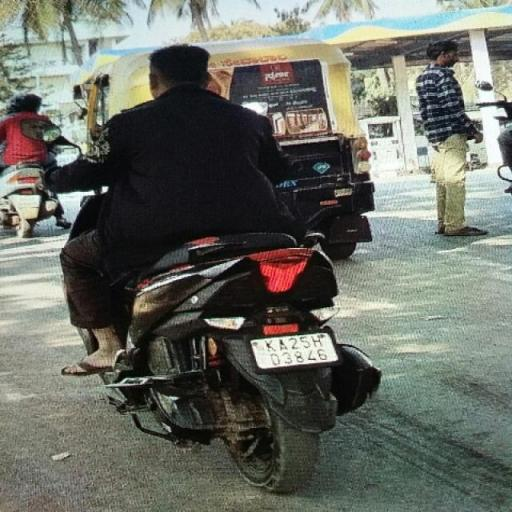bike: (29, 39, 388, 491)
numberplate: (253, 330, 338, 370)
withouthelmet: (150, 46, 210, 93)
